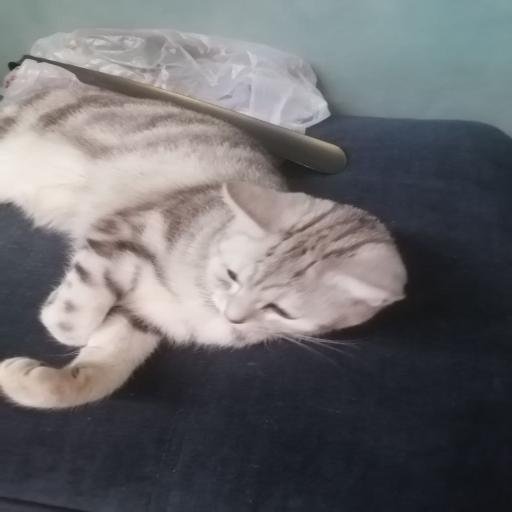cats: (0, 87, 406, 409)
